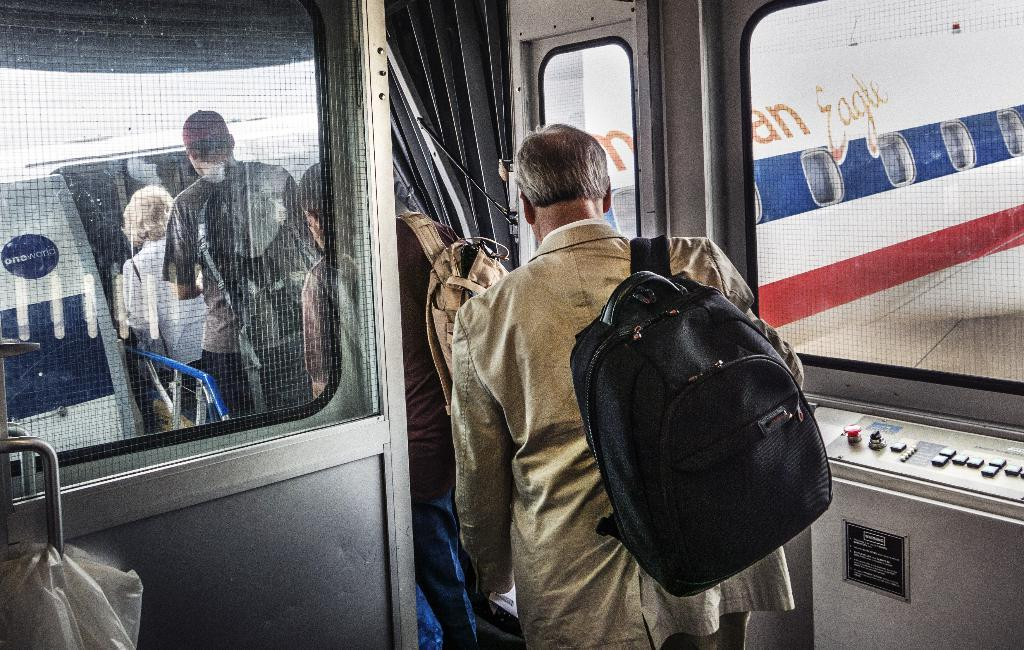Luggage-and-bags: (582, 250, 831, 605), (190, 158, 328, 414), (392, 205, 515, 432)
